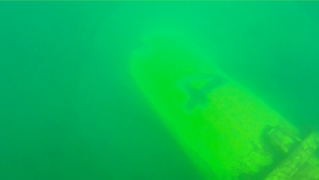4: (178, 71, 230, 112)
pipe: (127, 27, 319, 180)
